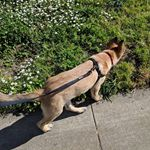puppy: (1, 34, 130, 136)
